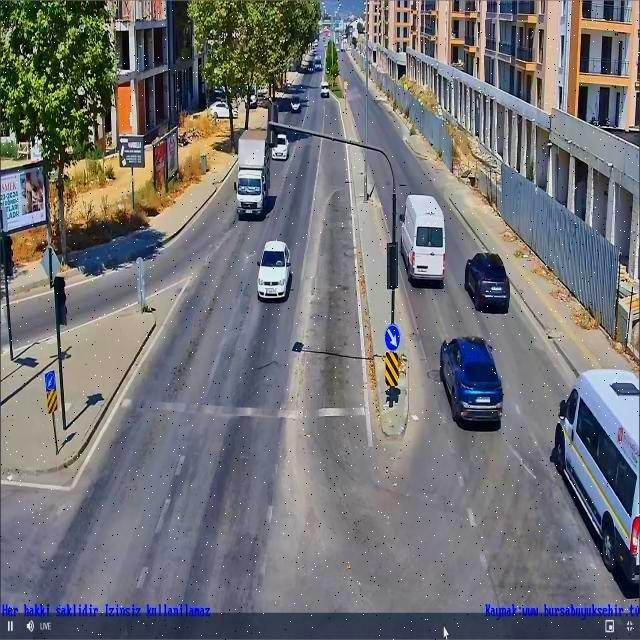Car: (438, 334, 507, 427), (463, 250, 512, 310), (254, 241, 292, 304)
Truck: (233, 128, 271, 222)
Van: (555, 367, 640, 587), (398, 193, 447, 283)
